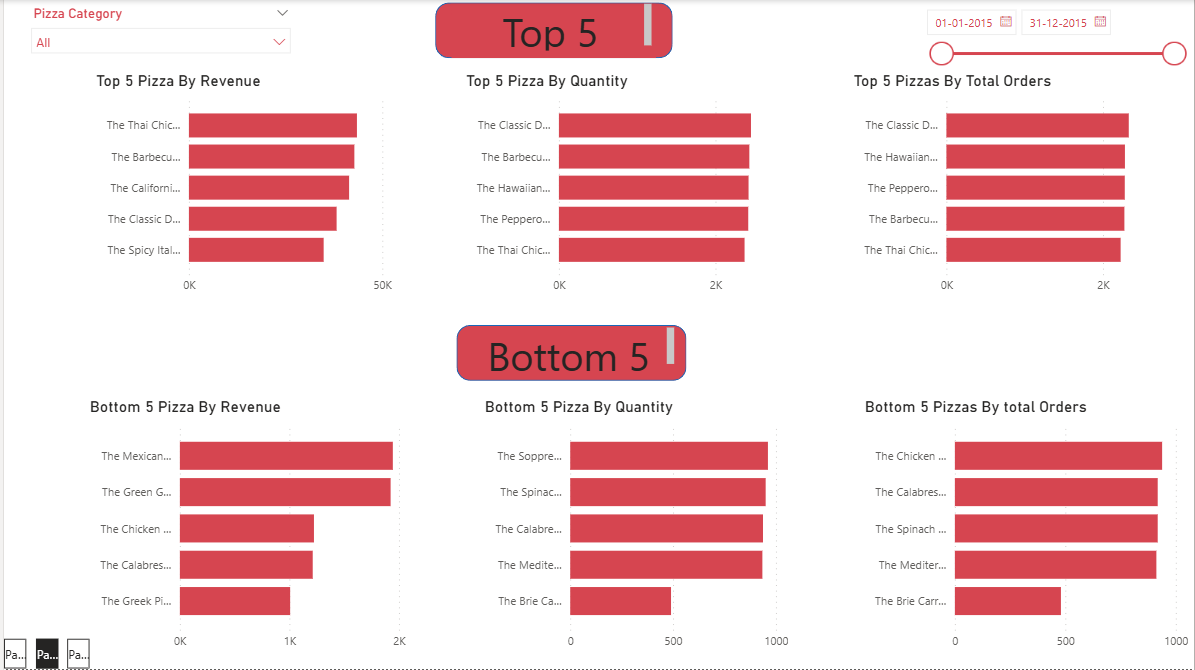

The page's visual inventory and layout, read from the dashboard file:
{"tool":"powerbi","page":{"name":"Page 2","canvas":[1280,720],"ordinal":1},"visuals":[{"type":"group","id":"g1","title":"Group 5","box":[94.3,2.9,1184.3,322.9],"z":0},{"type":"shape","box":[464.2,2.9,255.5,59.9],"z":0,"group":"g5"},{"type":"barChart","title":"Top 5 Pizza By Revenue","fields":{"Category":["pizza_sales.pizza_name"],"Y":["order_details.TTL REVENUE"]},"box":[94.3,77.2,369.7,248.6],"z":0,"group":"g4"},{"type":"shape","box":[486.4,349,247.5,60],"z":0,"group":"g6"},{"type":"barChart","title":"Top 5 Pizzas By Total Orders","fields":{"Category":["pizza_sales.pizza_name"],"Y":["Query11.TTL ORDERS"]},"box":[908.9,77.2,369.7,248.6],"z":1000,"group":"g4"},{"type":"group","id":"g2","title":"Group 6","box":[87.1,349,1191.4,357.3],"z":1000},{"type":"group","id":"g3","title":"Group 1","box":[87.1,426.3,1191.4,280],"z":1000,"group":"g2"},{"type":"group","id":"g4","title":"Group 2","box":[94.3,77.2,1184.3,248.6],"z":2000,"group":"g1"},{"type":"barChart","title":"Top 5 Pizza By Quantity","fields":{"Y":["order_details.TTL PIZZAS SOLD"],"Category":["pizza_sales.pizza_name"]},"box":[492,77.2,369.7,248.6],"z":2000,"group":"g4"},{"type":"pageNavigator","box":[0,687.1,94.3,32.9],"z":2000},{"type":"slicer","fields":{"Values":["pizza_sales.pizza_category"]},"box":[18.8,1.3,299.9,61.9],"z":3000},{"type":"textbox","box":[481.5,4.1,220.4,58.8],"z":3000,"group":"g5"},{"type":"textbox","box":[495.2,351.5,230,55],"z":3000,"group":"g6"},{"type":"barChart","title":"Bottom 5 Pizza By Revenue","fields":{"Category":["pizza_sales.pizza_name"],"Y":["order_details.TTL REVENUE"]},"box":[87.1,426.3,357.7,280],"z":3000,"group":"g3"},{"type":"group","id":"g5","title":"Group 3","box":[464.2,2.9,255.5,60],"z":3001,"group":"g1"},{"type":"group","id":"g6","title":"Group 4","box":[486.4,349,247.5,60],"z":3002,"group":"g2"},{"type":"slicer","fields":{"Values":["pizza_sales.order_date"]},"box":[980.4,0,299.9,76.7],"z":4000},{"type":"barChart","title":"Bottom 5 Pizza By Quantity","fields":{"Category":["pizza_sales.pizza_name"],"Y":["order_details.TTL PIZZAS SOLD"]},"box":[511.8,426.3,336.3,280],"z":4000,"group":"g3"},{"type":"barChart","title":"Bottom 5 Pizzas By total Orders","fields":{"Category":["pizza_sales.pizza_name"],"Y":["Query11.TTL ORDERS"]},"box":[920.8,426.3,357.7,280],"z":5000,"group":"g3"}]}

Visuals, with their boxes in screenshot pixels (x1, y1, x2, y2), scaled from the page's 1280x720 canvas onto the 1195x670 screenshot:
"Group 5" group: [88,3,1194,303]
shape: [433,3,672,58]
"Top 5 Pizza By Revenue" barChart: [88,72,433,303]
shape: [454,325,685,381]
"Top 5 Pizzas By Total Orders" barChart: [849,72,1194,303]
"Group 6" group: [81,325,1194,657]
"Group 1" group: [81,397,1194,657]
"Group 2" group: [88,72,1194,303]
"Top 5 Pizza By Quantity" barChart: [459,72,804,303]
pageNavigator: [0,639,88,669]
slicer - pizza_sales.pizza_category: [18,1,298,59]
textbox: [450,4,655,59]
textbox: [462,327,677,378]
"Bottom 5 Pizza By Revenue" barChart: [81,397,415,657]
"Group 3" group: [433,3,672,59]
"Group 4" group: [454,325,685,381]
slicer - pizza_sales.order_date: [915,0,1194,71]
"Bottom 5 Pizza By Quantity" barChart: [478,397,792,657]
"Bottom 5 Pizzas By total Orders" barChart: [860,397,1194,657]
